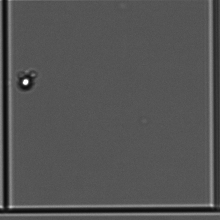Living Cell: (13, 68, 40, 93)
